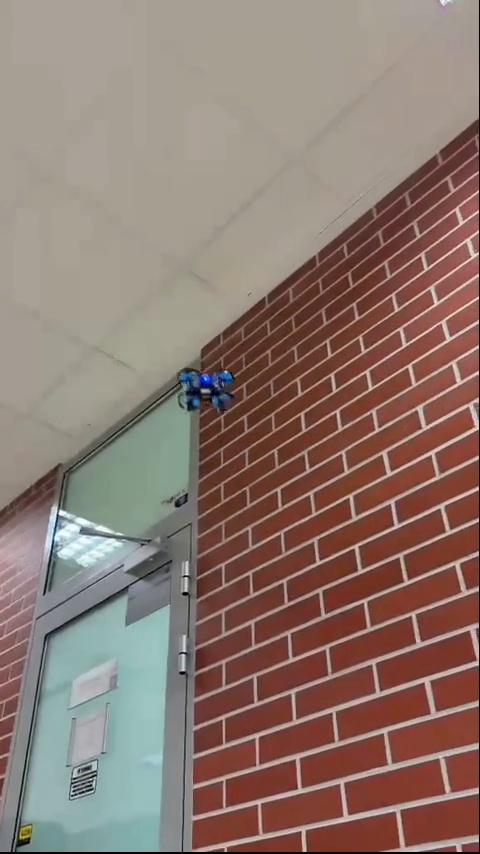drone: (176, 366, 237, 414)
